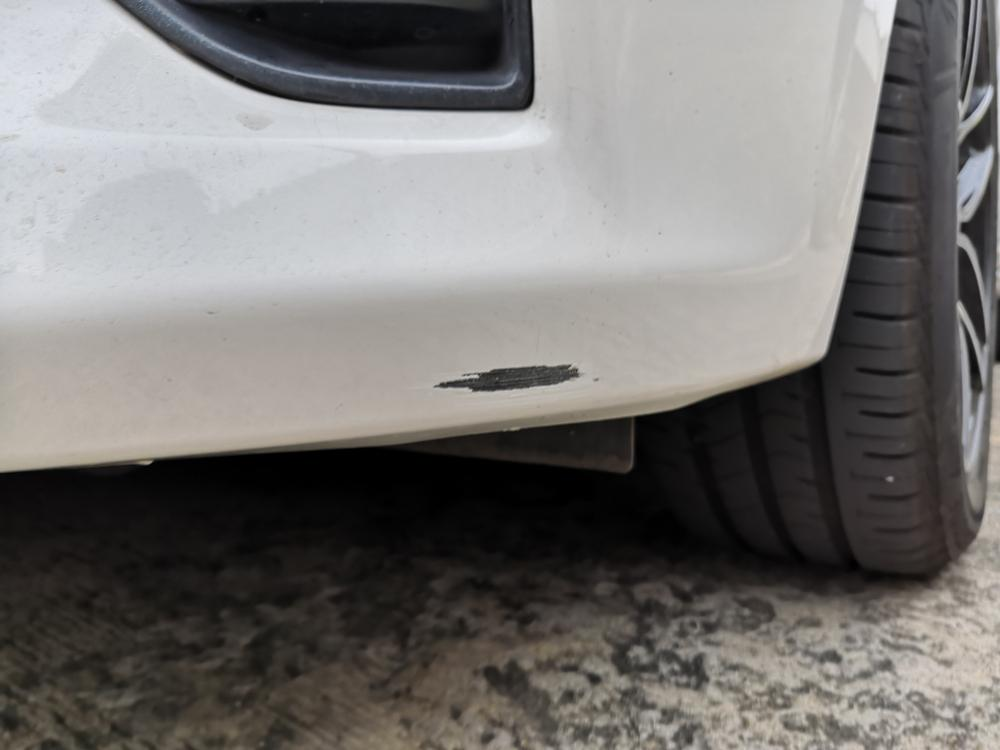scratch: (423, 356, 597, 394)
